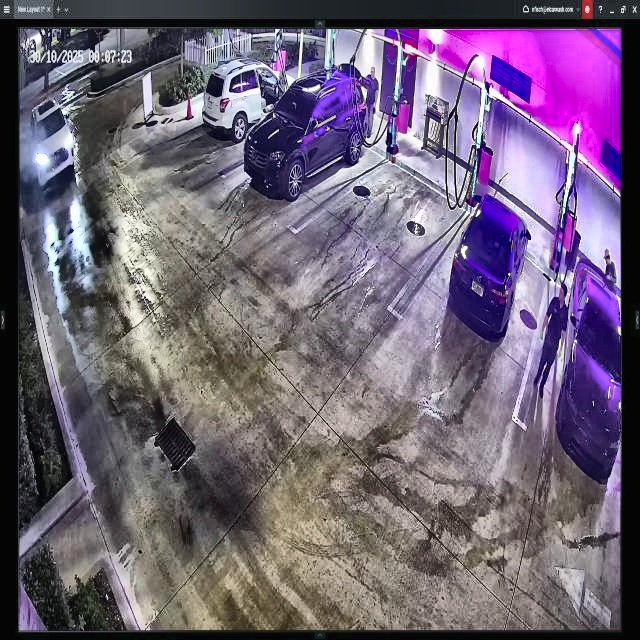Car: (245, 68, 368, 197), (448, 194, 531, 340)
